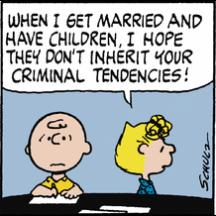charlie: (23, 110, 94, 200)
